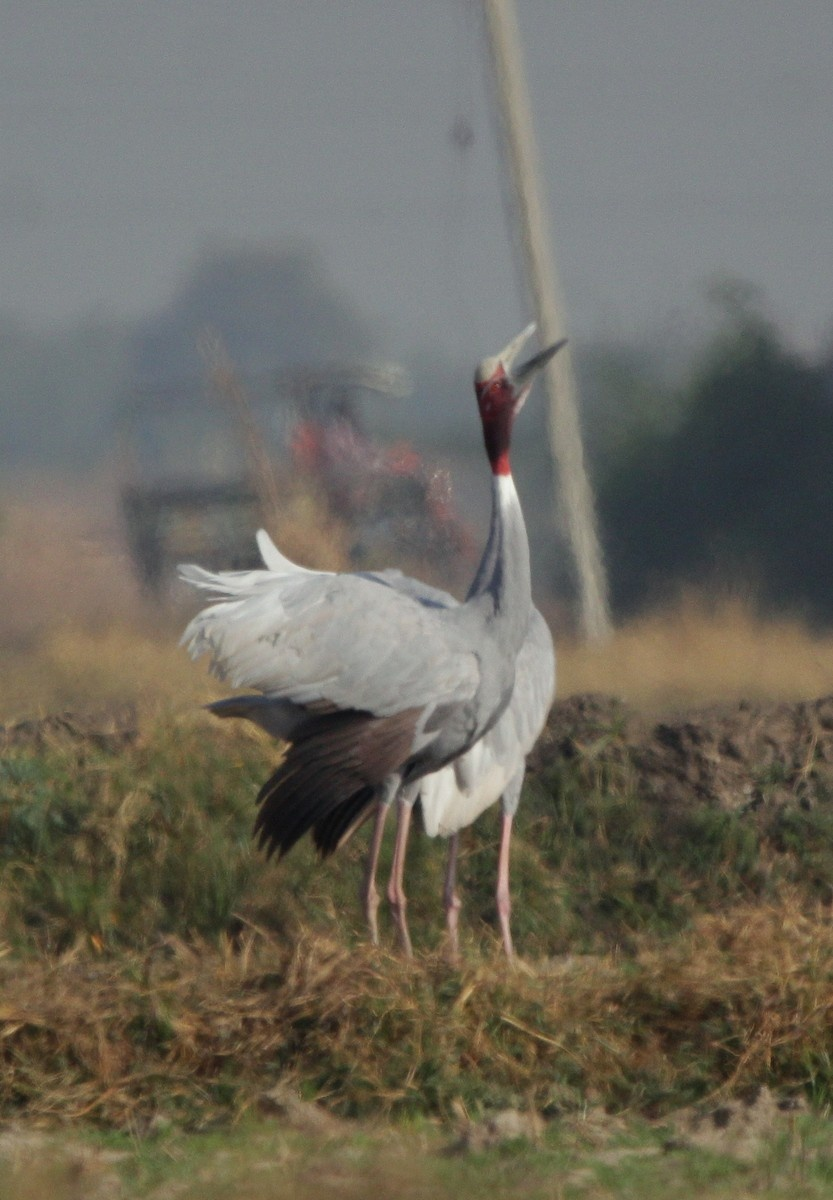crane: (196, 313, 556, 946)
